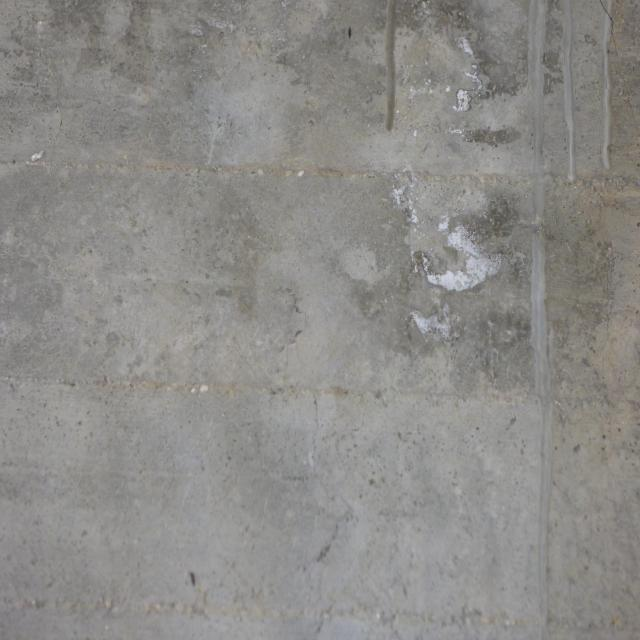vertical crack: (274, 283, 356, 513), (310, 506, 356, 640), (598, 0, 639, 139), (597, 237, 617, 441), (596, 115, 606, 225)
